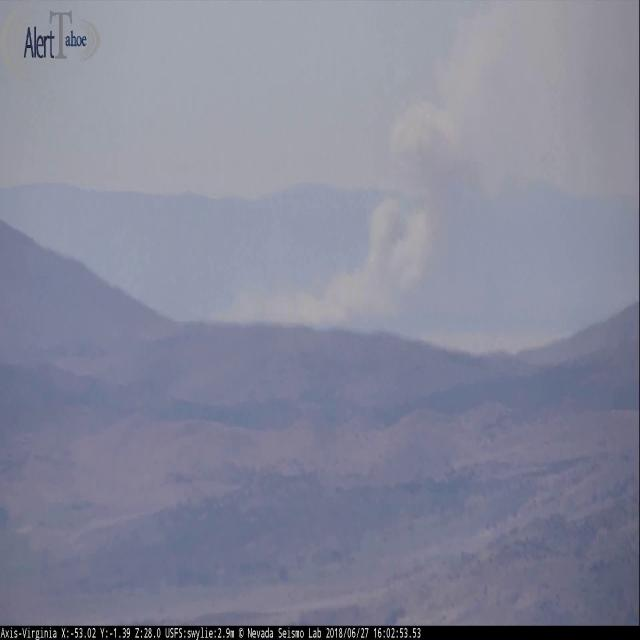smoke: (217, 0, 574, 325)
